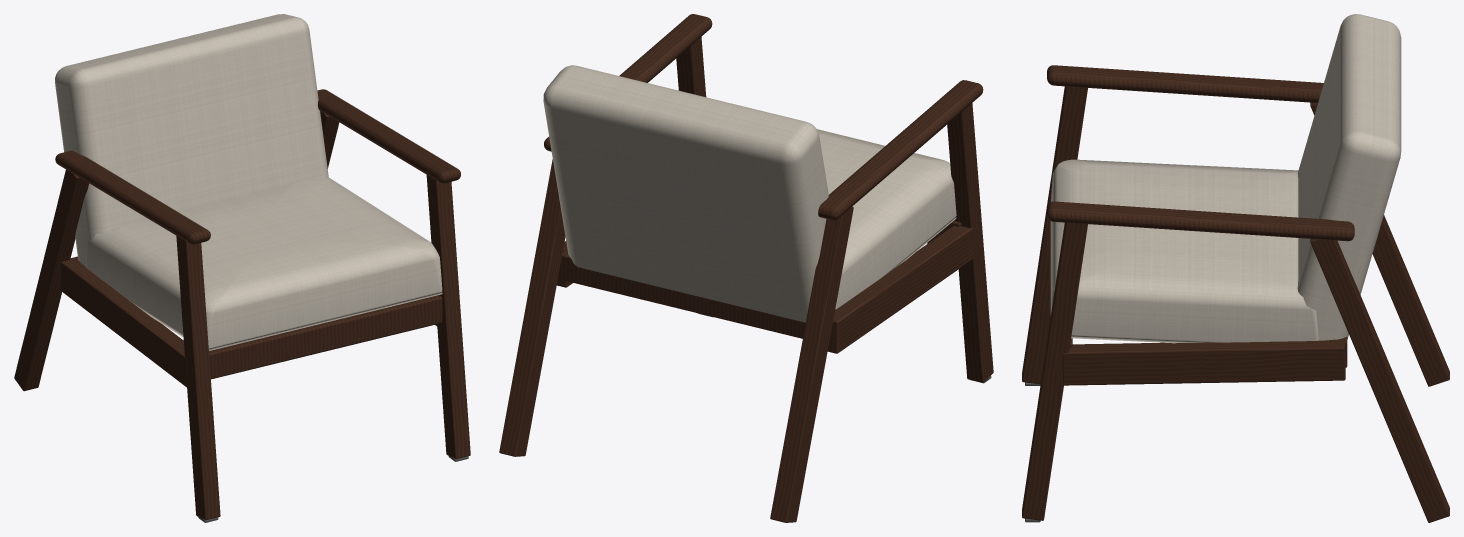
The model's file is armchair.glb.
3 renders of one model, left to right at view 1: azimuth 30°, elevation 25°; view 2: azimuth 150°, elevation 25°; view 3: azimuth 270°, elevation 25°, orthographic. The views are drawn at different scales.
Visible parts, largest first — view 1: Tall subtly rounded upholstered back, Fixed seat with squared lower apron, Flat rectangular front leg, Deep rectangular front seat rail, Flat rectangular front leg.001, Flat rectangular rear leg, Deep side seat rail, Long pill-edged armrest, Long pill-edged armrest.001, Flat rectangular rear leg.001; view 2: Tall subtly rounded upholstered back, Fixed seat with squared lower apron, Flat rectangular rear leg, Flat rectangular rear leg.001, Flat rectangular front leg, Deep side seat rail, Long pill-edged armrest, Rear seat crosspiece, Long pill-edged armrest.001, Flat rectangular front leg.001; view 3: Fixed seat with squared lower apron, Tall subtly rounded upholstered back, Deep side seat rail.001, Flat rectangular rear leg.001, Flat rectangular front leg.001, Long pill-edged armrest.001, Long pill-edged armrest, Flat rectangular front leg, Flat rectangular rear leg.
Boxes of the visible parts, x1=… form: Tall subtly rounded upholstered back: x1=55, y1=14, x2=328, y2=266; Fixed seat with squared lower apron: x1=86, y1=177, x2=442, y2=350; Flat rectangular front leg: x1=176, y1=236, x2=220, y2=520; Deep rectangular front seat rail: x1=209, y1=295, x2=442, y2=379; Flat rectangular front leg.001: x1=426, y1=175, x2=470, y2=459; Flat rectangular rear leg: x1=14, y1=169, x2=88, y2=391; Deep side seat rail: x1=60, y1=259, x2=187, y2=387; Long pill-edged armrest: x1=55, y1=150, x2=210, y2=244; Long pill-edged armrest.001: x1=317, y1=89, x2=460, y2=183; Flat rectangular rear leg.001: x1=320, y1=111, x2=339, y2=168; Tall subtly rounded upholstered back: x1=543, y1=65, x2=828, y2=322; Fixed seat with squared lower apron: x1=817, y1=129, x2=956, y2=309; Flat rectangular rear leg: x1=770, y1=206, x2=853, y2=522; Flat rectangular rear leg.001: x1=499, y1=159, x2=565, y2=456; Flat rectangular front leg: x1=947, y1=103, x2=993, y2=382; Deep side seat rail: x1=827, y1=226, x2=974, y2=353; Long pill-edged armrest: x1=818, y1=80, x2=983, y2=220; Rear seat crosspiece: x1=559, y1=249, x2=805, y2=338; Long pill-edged armrest.001: x1=544, y1=14, x2=712, y2=151; Flat rectangular front leg.001: x1=676, y1=37, x2=710, y2=316; Fixed seat with squared lower apron: x1=1050, y1=159, x2=1318, y2=343; Tall subtly rounded upholstered back: x1=1297, y1=14, x2=1401, y2=340; Deep side seat rail.001: x1=1062, y1=340, x2=1345, y2=385; Flat rectangular rear leg.001: x1=1310, y1=239, x2=1449, y2=522; Flat rectangular front leg.001: x1=1022, y1=222, x2=1087, y2=520; Long pill-edged armrest.001: x1=1047, y1=201, x2=1354, y2=241; Long pill-edged armrest: x1=1047, y1=65, x2=1323, y2=102; Flat rectangular front leg: x1=1022, y1=86, x2=1087, y2=384; Flat rectangular rear leg: x1=1310, y1=102, x2=1449, y2=386.
Bounding box in the file's own units: 0.64 × 0.76 × 0.78.
4 materials, 2 textured.
